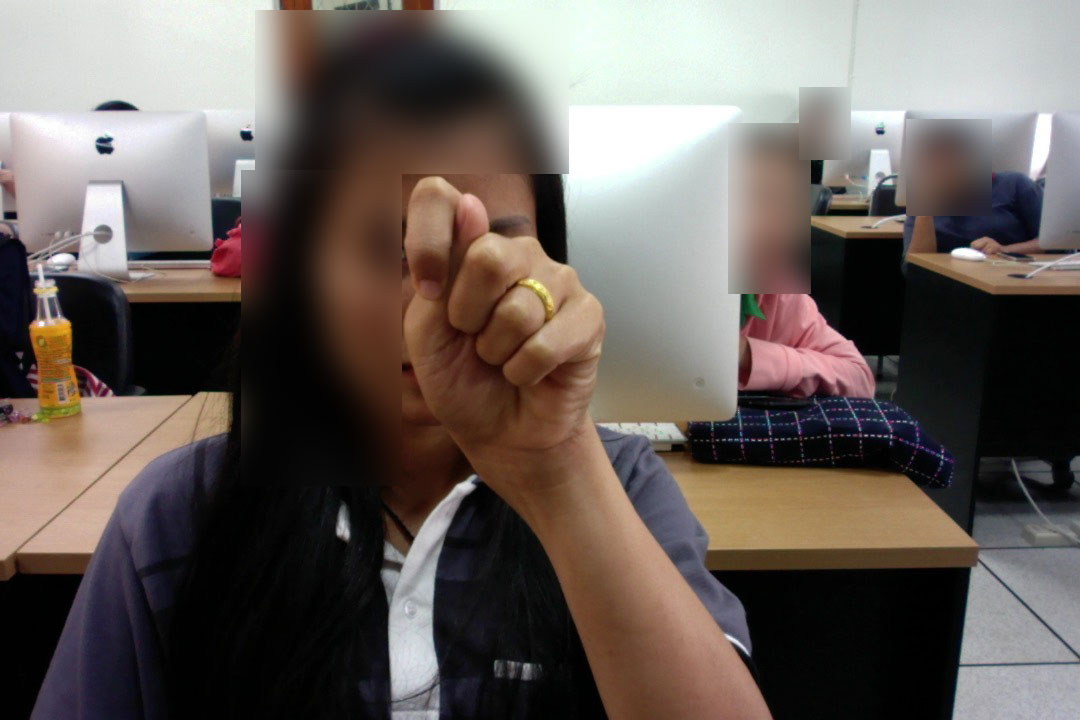tor: (400, 171, 610, 505)
